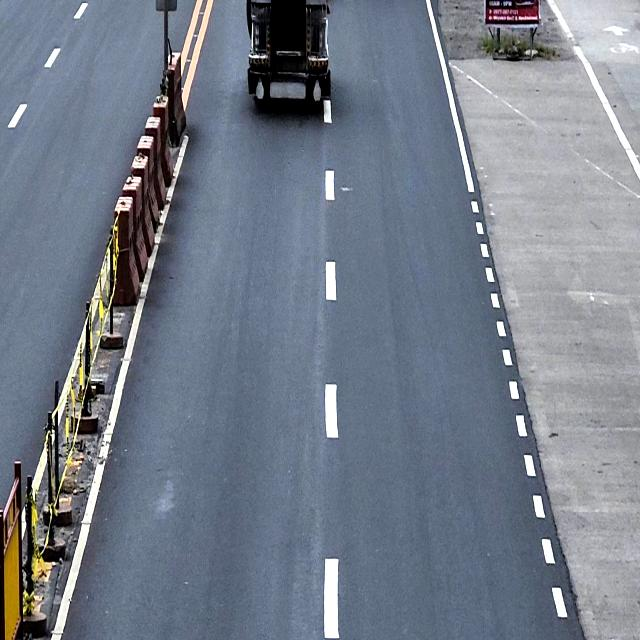Jeep: (245, 0, 332, 108)
